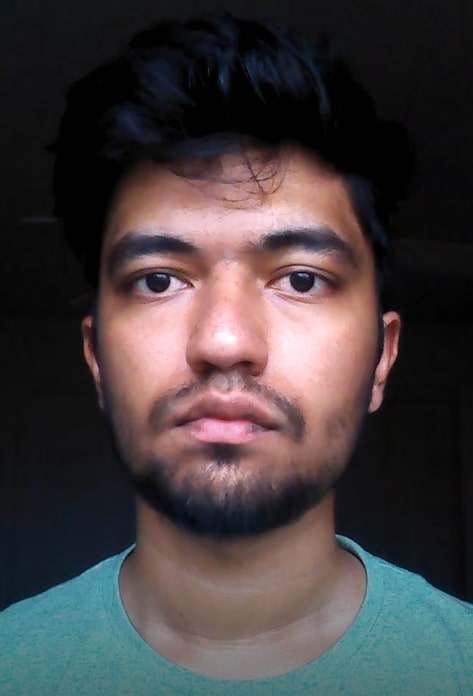Not Sleeping: (100, 235, 352, 316)
